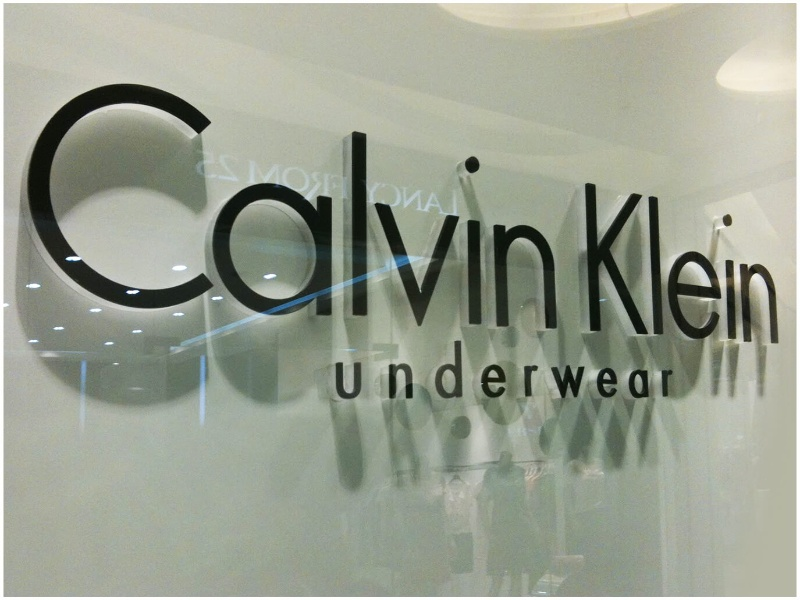letters: (23, 79, 211, 315), (210, 181, 342, 319), (581, 183, 649, 344), (378, 201, 460, 329), (489, 226, 561, 331), (337, 131, 370, 323), (665, 252, 724, 340), (462, 158, 487, 326), (740, 260, 785, 347), (640, 193, 664, 338), (718, 215, 737, 342), (429, 343, 467, 399), (549, 356, 587, 403), (384, 359, 422, 401), (335, 361, 365, 404), (590, 361, 625, 397), (476, 361, 505, 404), (629, 362, 655, 404), (518, 361, 543, 399), (659, 363, 676, 407)
